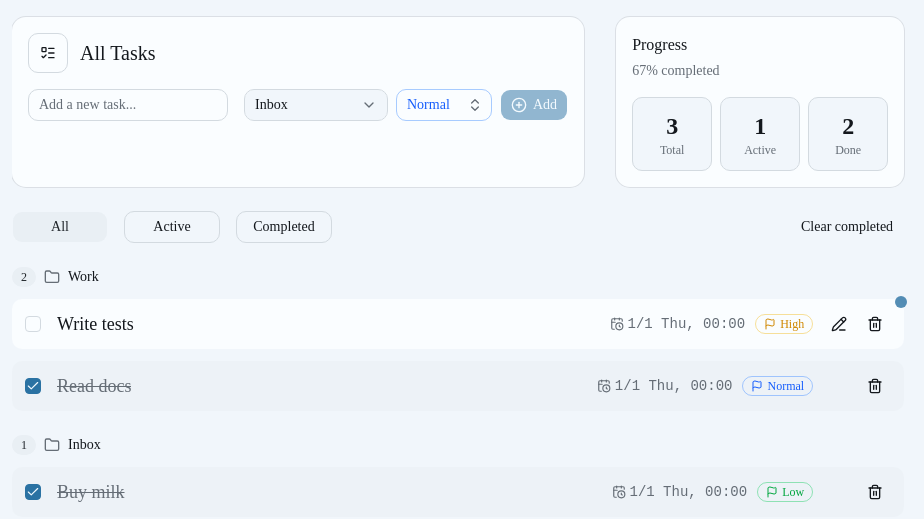
Scenario: TodoPage interactions › filters All, Active and Completed without changing the underlying tasks
expect the text "Write tests" is shown: met, box 57,310 -> 134,338
expect the text "Read docs" is shown: met, box 57,372 -> 132,400
Click the button "Active" at [172, 227], box 124,211 -> 220,243
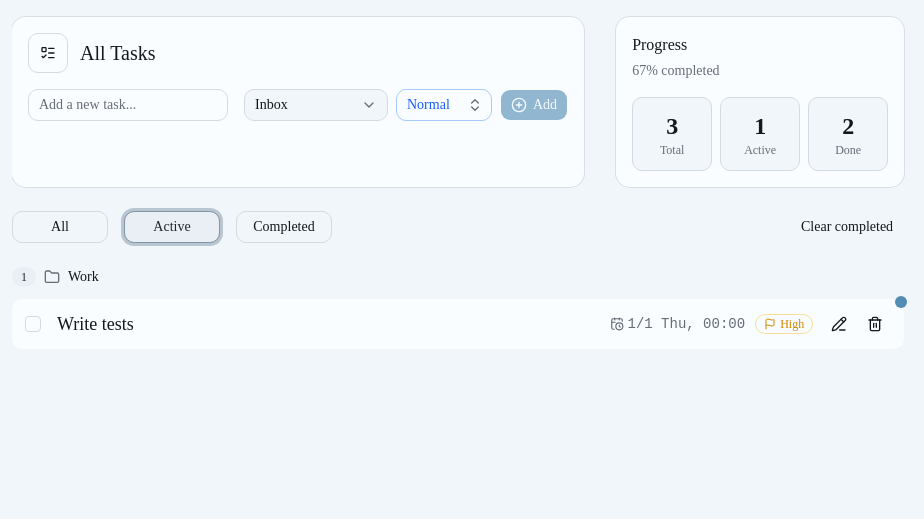
expect the text "Write tests" is shown: met, box 57,310 -> 134,338
expect the text "Read docs" is gone: met
Click the button "Completed" at [284, 227], box 236,211 -> 332,243
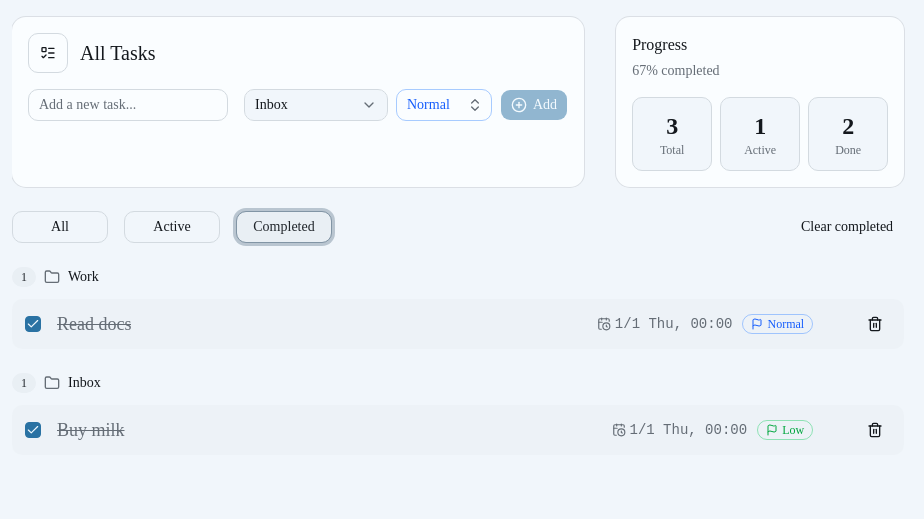
expect the text "Write tests" is gone: met
expect the text "Read docs" is shown: met, box 57,310 -> 132,338
expect the text "Buy milk" is shown: met, box 57,416 -> 124,444
Click the button "All" at [60, 227], box 12,211 -> 108,243
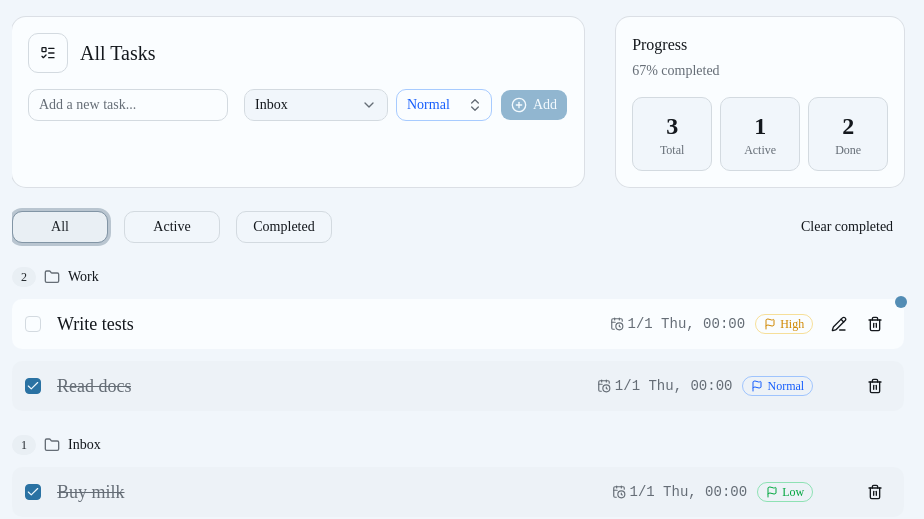
expect the text "Write tests" is shown: met, box 57,310 -> 134,338
